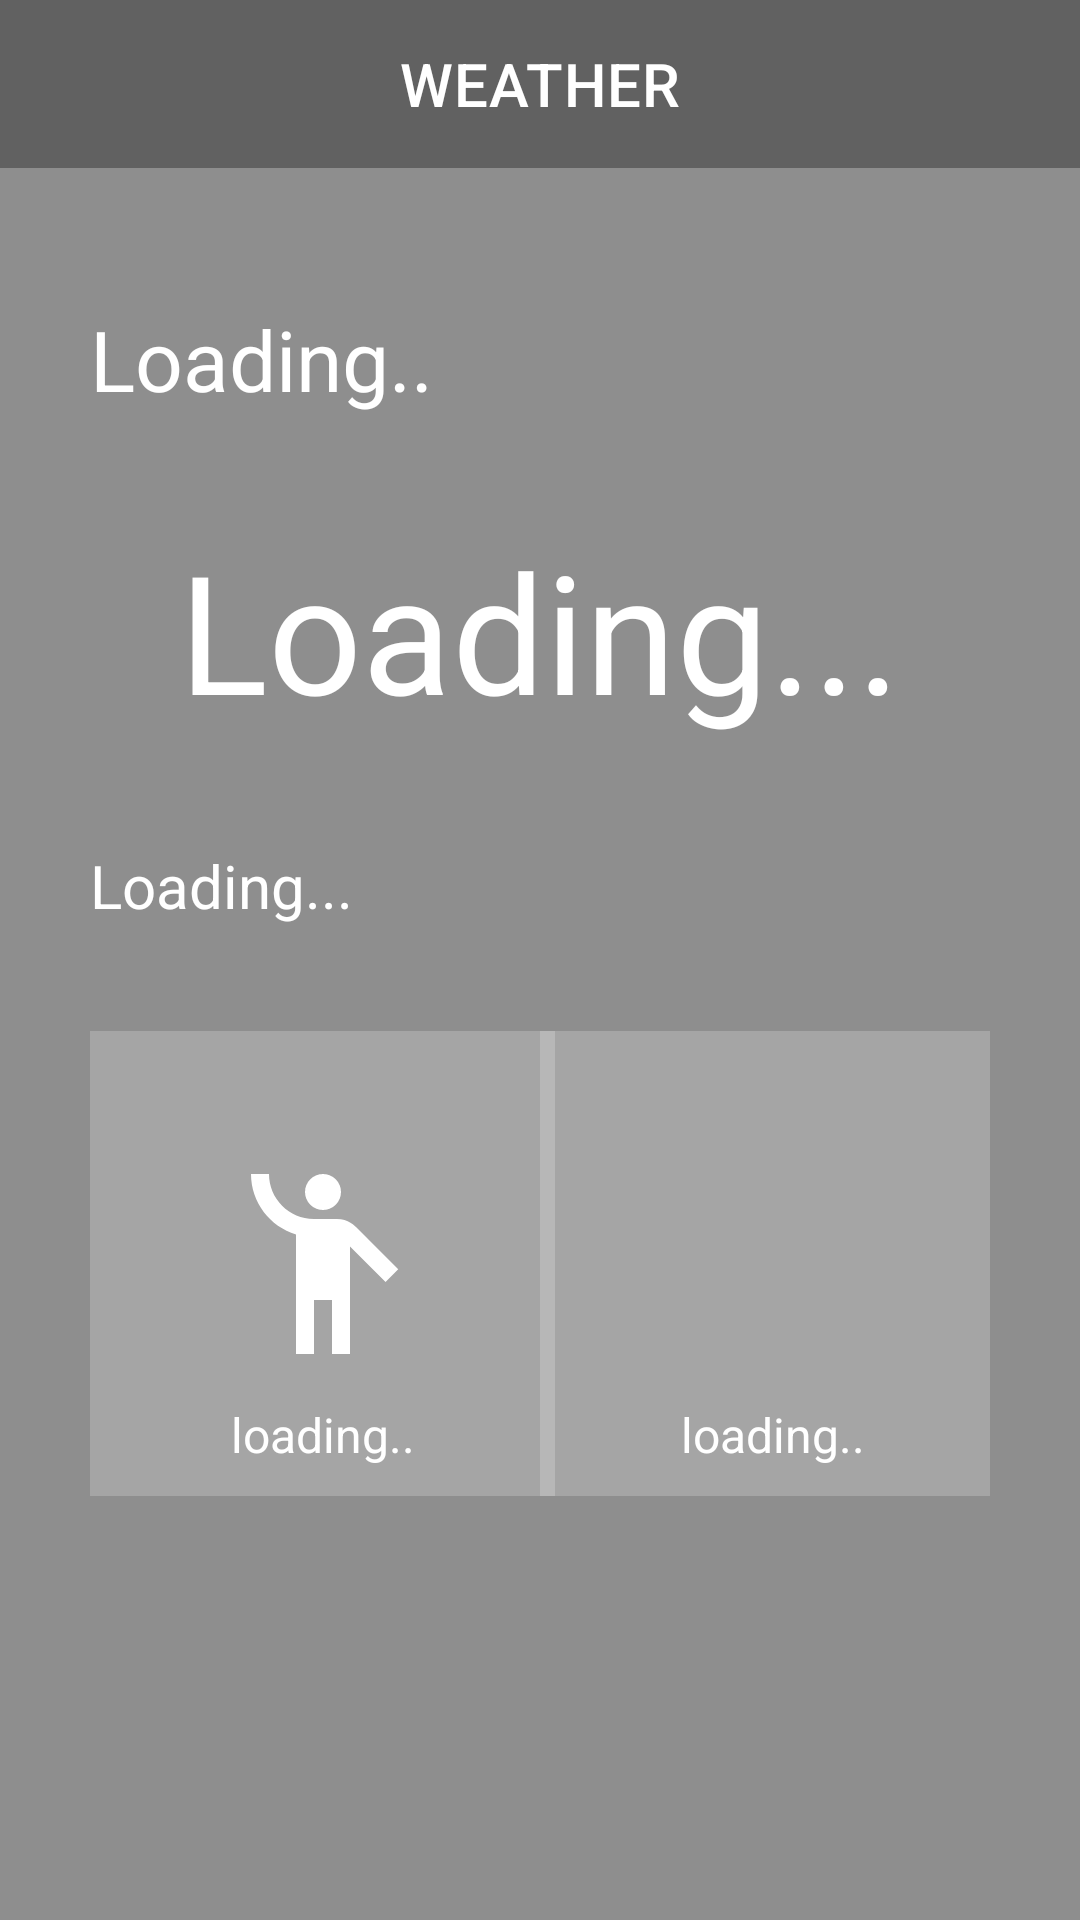

Named icons in this screenshot (1080w x 1920h) and their centers, (x,y):
emoji people: (324,1264)
